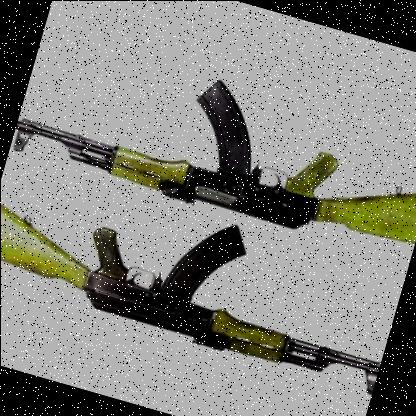rifle: (6, 13, 416, 275), (0, 170, 402, 412)
